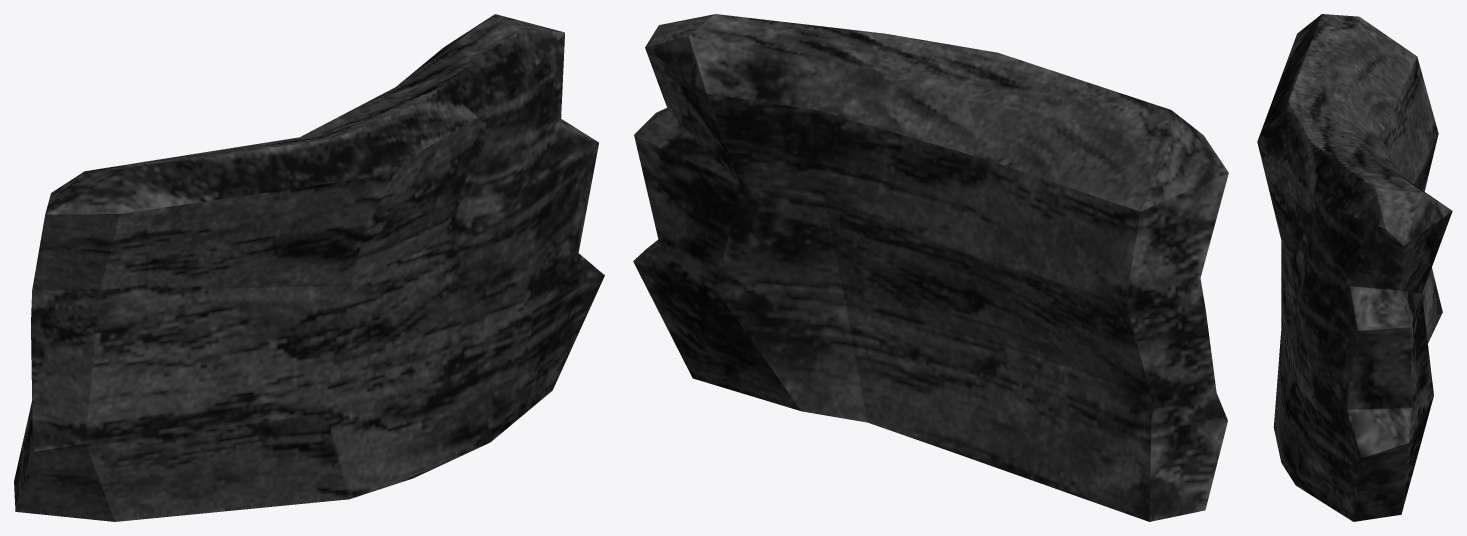
The model's file is snow_rocky_wall.glb.
3 renders of one model, left to right at view 1: azimuth 30°, elevation 25°; view 2: azimuth 150°, elevation 25°; view 3: azimuth 270°, elevation 25°, orthographic. The views are drawn at different scales.
Visible parts, largest first — view 1: _MeshInstance3D_20; view 2: _MeshInstance3D_20; view 3: _MeshInstance3D_20.
Boxes of the visible parts, left/top/right/bottom form: _MeshInstance3D_20: left=14, top=14, right=604, bottom=521; _MeshInstance3D_20: left=633, top=14, right=1228, bottom=521; _MeshInstance3D_20: left=1257, top=14, right=1452, bottom=521.
Bounding box in the file's own units: 4.45 × 2.86 × 1.44.
1 material, 1 textured.
